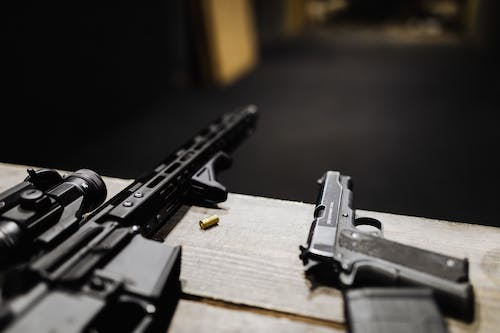gun: (0, 97, 265, 333), (295, 168, 477, 328)
